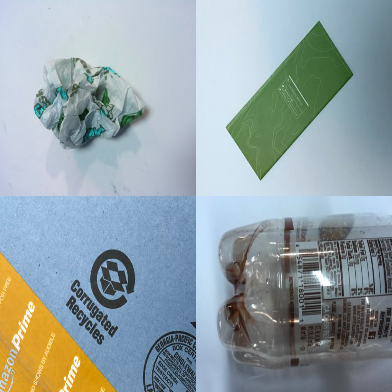cardboard: (1, 198, 195, 391)
paper: (224, 21, 355, 180), (32, 57, 146, 150)
plastic: (217, 214, 392, 370)
